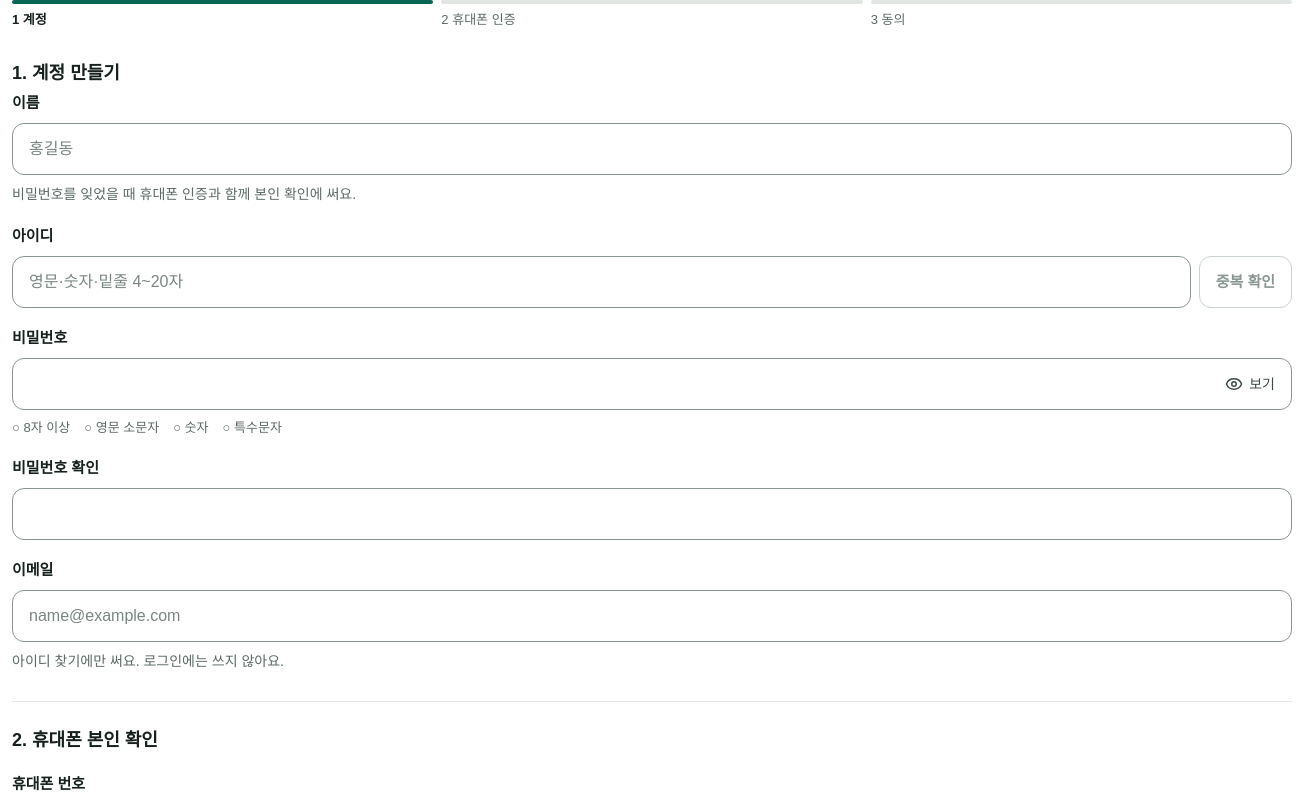
PasswordSignupForm › 늦게 도착한 이전 아이디 응답은 현재 아이디를 승인하지 않는다
Type "first_user" into the field labelled "아이디" at [601, 282], box [29,270,1174,294]
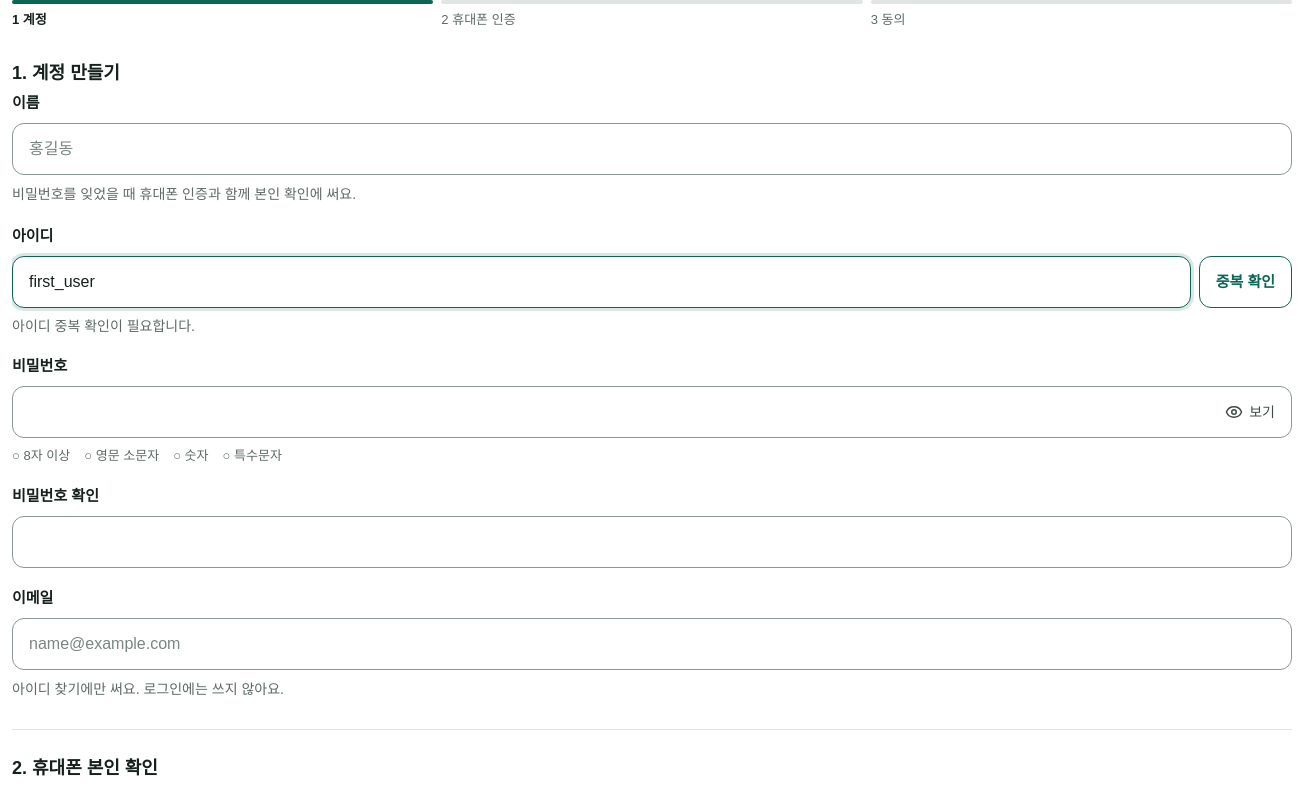
Click the button with aria-label "아이디 중복 확인" at [1245, 282], box [1199,256,1292,308]
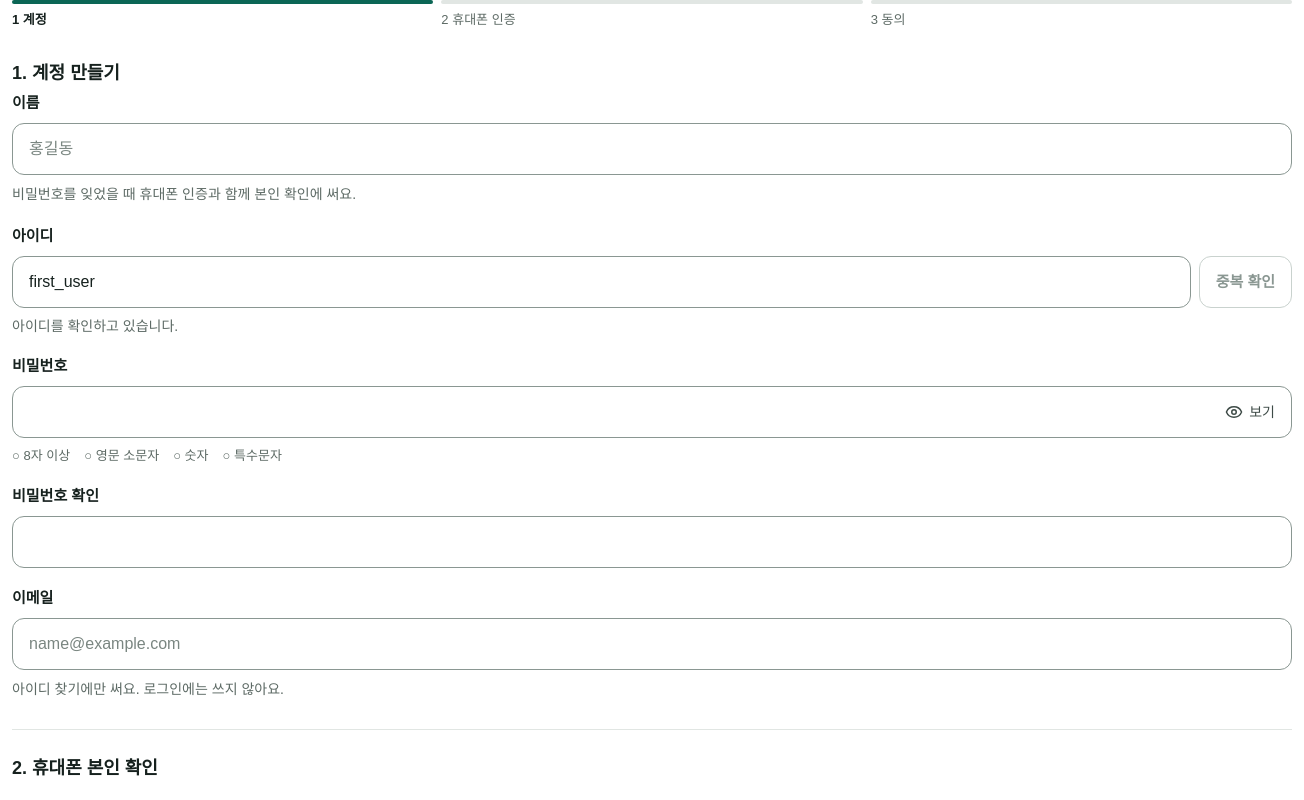
Replace the text in the field labelled "아이디" with "second_user" at [601, 282], box [29,270,1174,294]
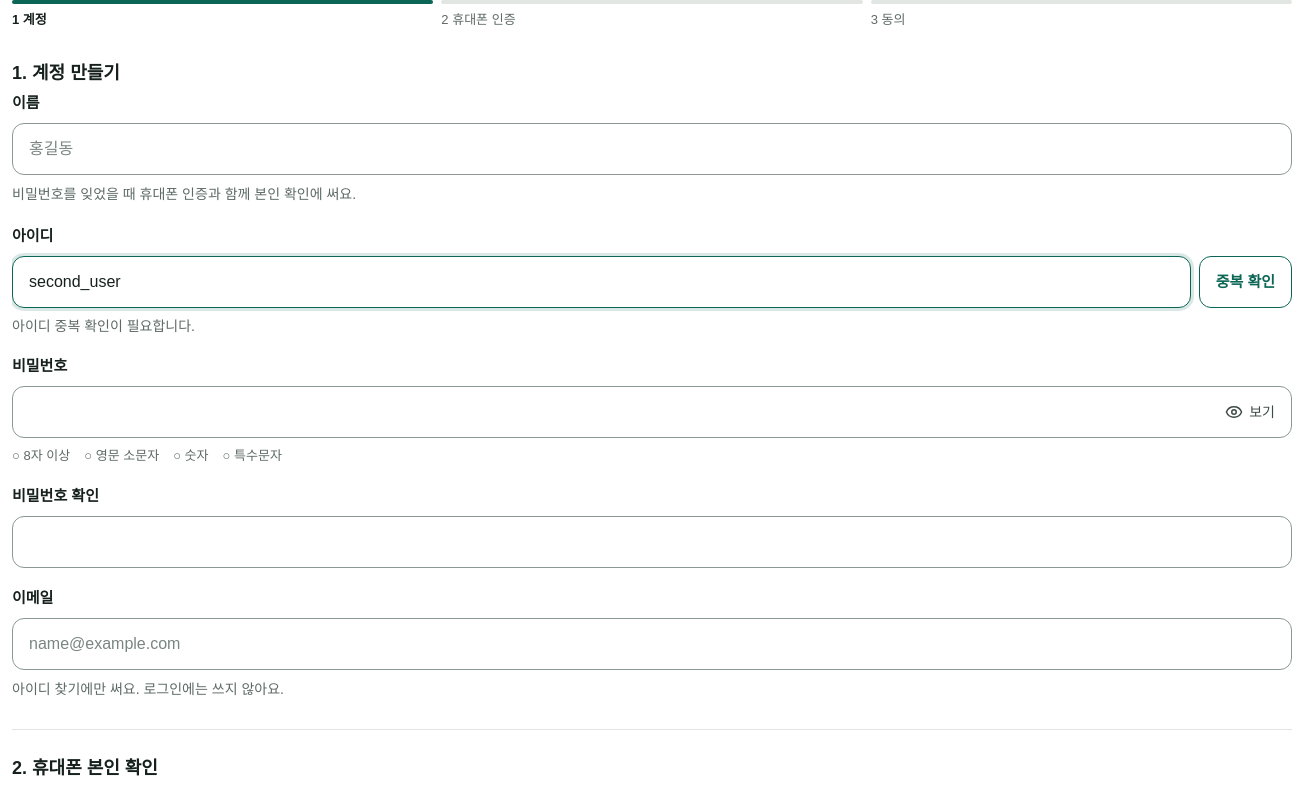
Expected: the text "아이디 중복 확인이 필요합니다." is shown, [12,318,195,334]
